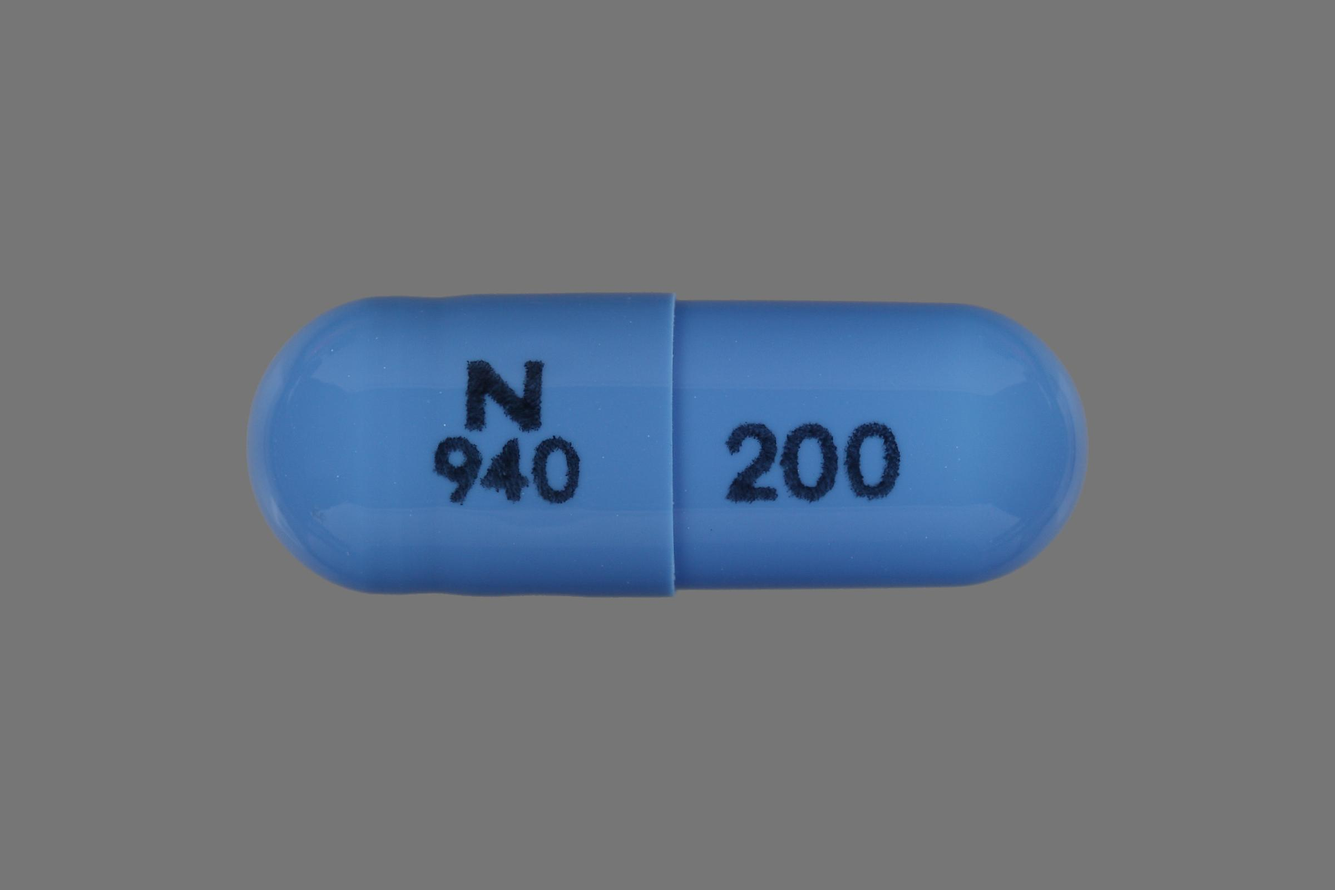Pill: (239, 282, 1097, 608)
